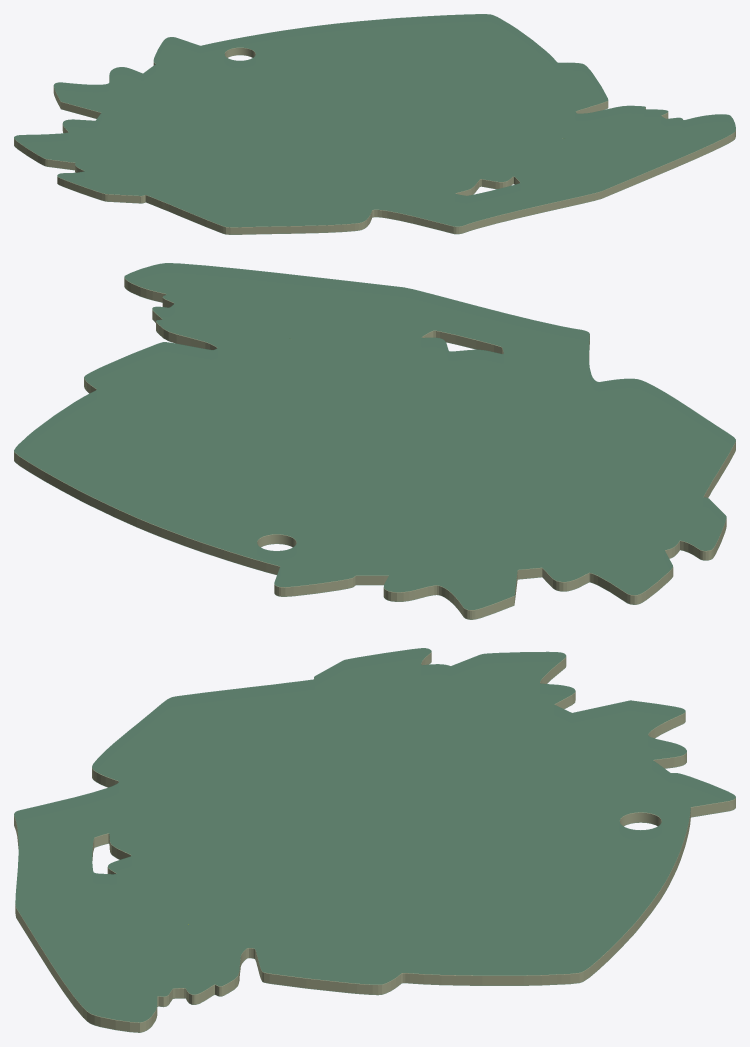
File: bsides-bournemouth-2025-skull-badge.glb
3 views of the same model, one above another, from view 1: azimuth 30°, elevation 25°; view 2: azimuth 150°, elevation 25°; view 3: azimuth 270°, elevation 25° (orthographic). The views are drawn at different scales.
Parts seen in each view (by area): view 1: =>[0:1:1:7], =>[0:1:1:5]; view 2: =>[0:1:1:7], =>[0:1:1:5]; view 3: =>[0:1:1:7], =>[0:1:1:5].
Part boxes in pixels (x1=…): =>[0:1:1:7]: x1=14, y1=15, x2=735, y2=234; =>[0:1:1:5]: x1=14, y1=14, x2=735, y2=234; =>[0:1:1:7]: x1=14, y1=264, x2=735, y2=619; =>[0:1:1:5]: x1=14, y1=263, x2=735, y2=619; =>[0:1:1:7]: x1=14, y1=649, x2=735, y2=1032; =>[0:1:1:5]: x1=14, y1=648, x2=735, y2=1032.
Bounding box in the file's own units: 0.1246 × 0.00164 × 0.1015.
4 materials, 4 textured.
